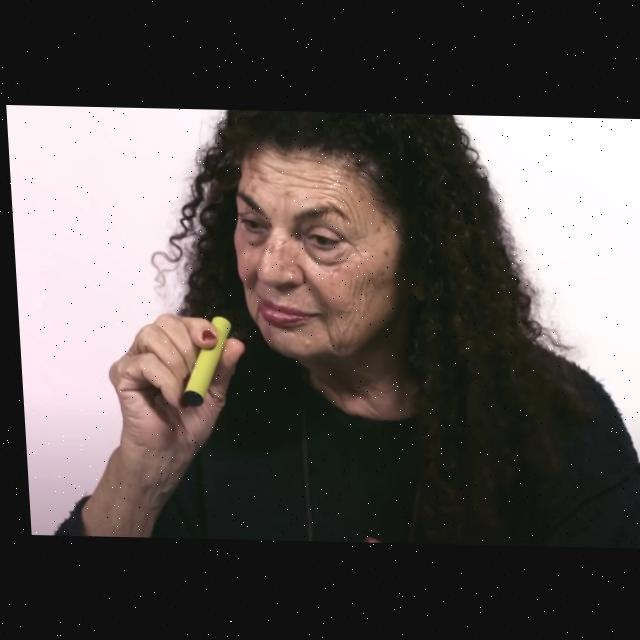vape: (172, 305, 237, 407)
